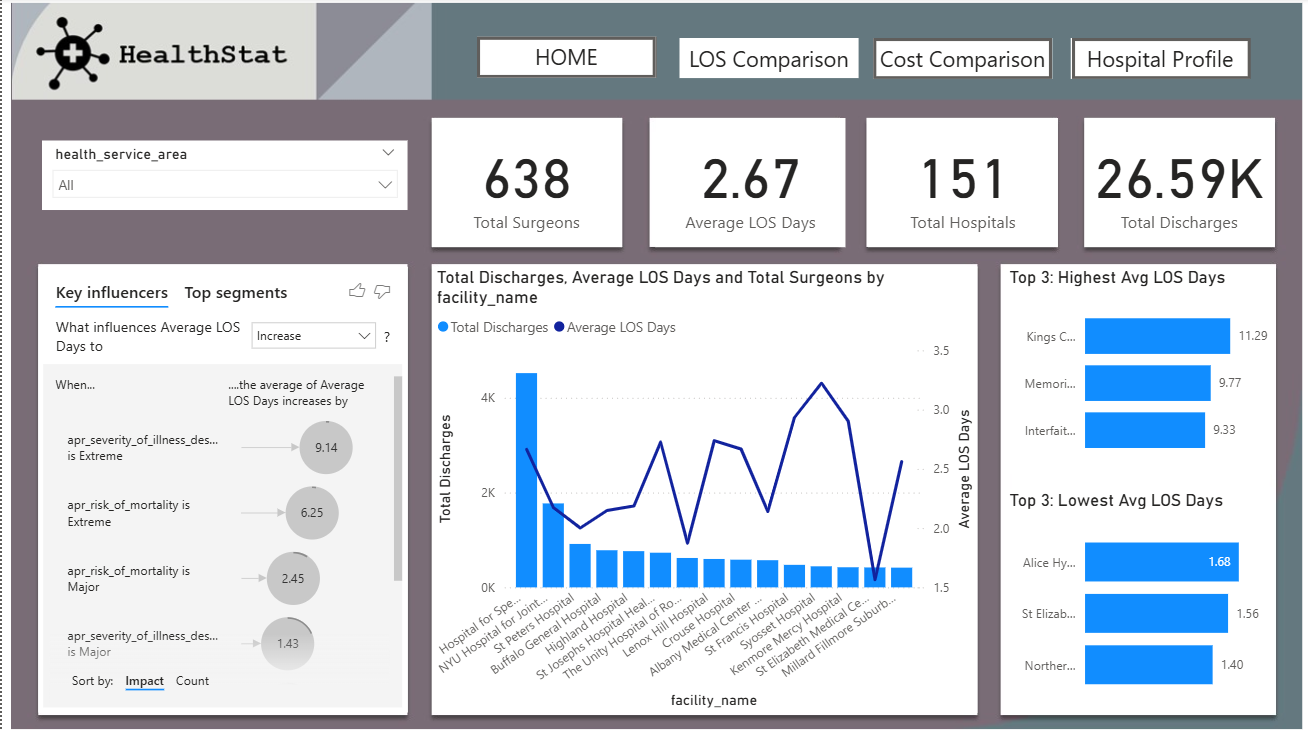

The page's visual inventory and layout, read from the dashboard file:
{"tool":"powerbi","page":{"name":"LOS Comparison","canvas":[1280,720],"ordinal":9},"visuals":[{"type":"image","box":[0,0,1280.3,720.2],"z":0},{"type":"card","fields":{"Values":["Measures (2).Total Surgeons"]},"box":[421,117.6,185.8,126.1],"z":1000},{"type":"card","fields":{"Values":["Measures (2).Average LOS Days"]},"box":[639.2,117.6,185.8,126.1],"z":2000},{"type":"card","fields":{"Values":["Measures (2).Total Hospitals"]},"box":[847.2,117.6,185.8,126.1],"z":3000},{"type":"card","fields":{"Values":["Measures (2).Total Discharges"]},"box":[1058.5,117.6,185.8,126.1],"z":4000},{"type":"slicer","fields":{"Values":["hospital_data.health_service_area"]},"box":[39.2,139.8,358,68.2],"z":5000},{"type":"keyDriversVisual","fields":{"ExplainBy":["hospital_data.apr_risk_of_mortality","hospital_data.apr_severity_of_illness_description","hospital_data.ccs_procedure_description","hospital_data.patient_disposition","hospital_data.gender","hospital_data.Age Bins","surgical_program_size_summary.Surgical Program Size","hospital_data.health_service_area"],"Target":["Measures (2).Average LOS Days"],"Details":["hospital_data.facility_name"]},"box":[35.8,262.5,361.4,436.4],"z":6000},{"type":"lineStackedColumnComboChart","fields":{"Category":["hospital_data.facility_name"],"Y":["Measures (2).Total Discharges"],"Y2":["Measures (2).Average LOS Days"]},"box":[421,262.5,533.5,436.4],"z":7000},{"type":"barChart","title":"Top 3: Highest Avg LOS Days","fields":{"Y":["Measures (2).Average LOS Days"],"Category":["hospital_data.facility_name"]},"box":[980.1,262.5,264.2,202.8],"z":8000},{"type":"barChart","title":"Top 3: Lowest Avg LOS Days","fields":{"Y":["Measures (2).Average LOS Days"],"Category":["hospital_data.facility_name"]},"box":[980.1,480.7,264.2,218.2],"z":9000},{"type":"actionButton","box":[464.7,37.9,176.1,40.4],"z":10000},{"type":"textbox","box":[464.7,37.9,174.9,40.4],"z":11000},{"type":"textbox","box":[662.8,39.1,174.9,39.1],"z":12000},{"type":"textbox","box":[852.3,39.1,174.9,40.4],"z":13000},{"type":"textbox","box":[1045.5,39.1,174.9,40.4],"z":14000},{"type":"actionButton","box":[852.3,39.1,174.9,40.4],"z":15000},{"type":"actionButton","box":[1046.7,39.1,174.9,40.4],"z":16000},{"type":"actionButton","box":[464.7,37.9,174.9,40.4],"z":17000}]}

Visuals, with their boxes in screenshot pixels (x1, y1, x2, y2), scaled from the page's 1280x720 canvas onto the 1308x730 screenshot:
image: {"x1": 0, "y1": 0, "x2": 1307, "y2": 729}
card - Measures (2).Total Surgeons: {"x1": 430, "y1": 119, "x2": 620, "y2": 247}
card - Measures (2).Average LOS Days: {"x1": 653, "y1": 119, "x2": 843, "y2": 247}
card - Measures (2).Total Hospitals: {"x1": 866, "y1": 119, "x2": 1056, "y2": 247}
card - Measures (2).Total Discharges: {"x1": 1082, "y1": 119, "x2": 1272, "y2": 247}
slicer - hospital_data.health_service_area: {"x1": 40, "y1": 142, "x2": 406, "y2": 211}
keyDriversVisual - hospital_data.apr_risk_of_mortality x hospital_data.apr_severity_of_illness_description: {"x1": 37, "y1": 266, "x2": 406, "y2": 709}
lineStackedColumnComboChart - hospital_data.facility_name x Measures (2).Total Discharges: {"x1": 430, "y1": 266, "x2": 975, "y2": 709}
"Top 3: Highest Avg LOS Days" barChart: {"x1": 1002, "y1": 266, "x2": 1272, "y2": 472}
"Top 3: Lowest Avg LOS Days" barChart: {"x1": 1002, "y1": 487, "x2": 1272, "y2": 709}
actionButton: {"x1": 475, "y1": 38, "x2": 655, "y2": 79}
textbox: {"x1": 475, "y1": 38, "x2": 654, "y2": 79}
textbox: {"x1": 677, "y1": 40, "x2": 856, "y2": 79}
textbox: {"x1": 871, "y1": 40, "x2": 1050, "y2": 81}
textbox: {"x1": 1068, "y1": 40, "x2": 1247, "y2": 81}
actionButton: {"x1": 871, "y1": 40, "x2": 1050, "y2": 81}
actionButton: {"x1": 1070, "y1": 40, "x2": 1248, "y2": 81}
actionButton: {"x1": 475, "y1": 38, "x2": 654, "y2": 79}
